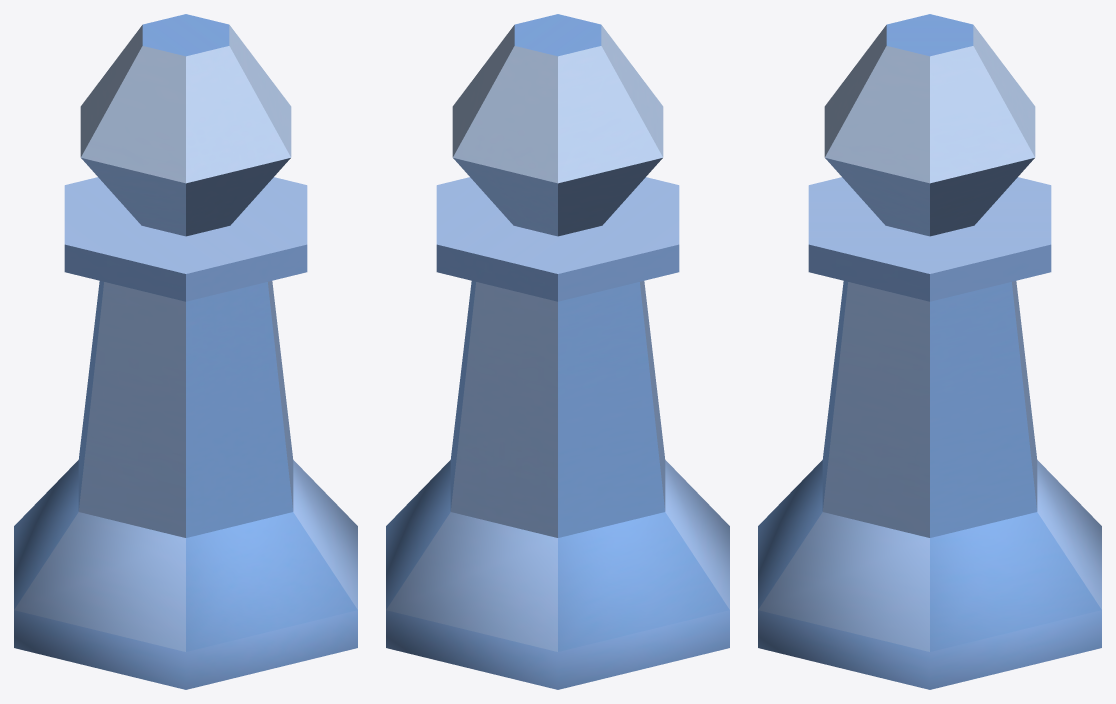
The model's file is SM_ChestPiece01.fbx.
3 views of the same model, side by side, from view 1: azimuth 30°, elevation 25°; view 2: azimuth 150°, elevation 25°; view 3: azimuth 270°, elevation 25° (orthographic).
Visible parts, largest first — view 1: SM_ChestPiece01; view 2: SM_ChestPiece01; view 3: SM_ChestPiece01.
Part boxes in pixels (left/top/right/bottom): SM_ChestPiece01: left=14, top=14, right=357, bottom=689; SM_ChestPiece01: left=386, top=14, right=729, bottom=689; SM_ChestPiece01: left=758, top=14, right=1101, bottom=689.
Size of the model in its own units: 9.5 by 15.07 by 8.23.
